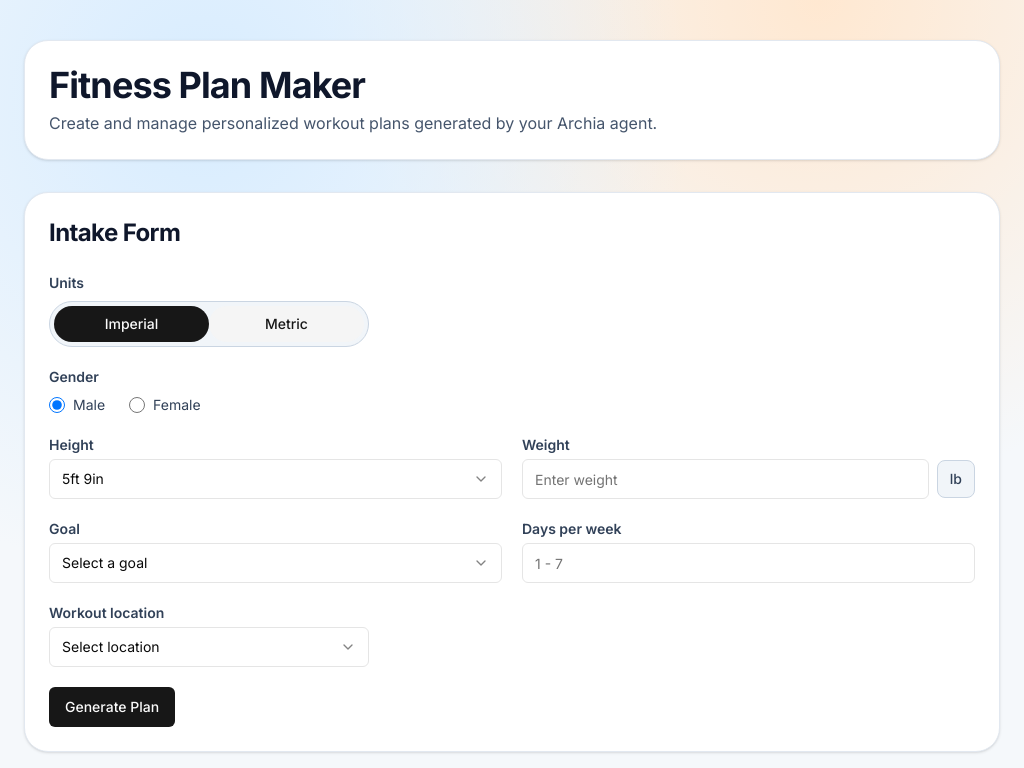
App › home selection reveals equipment fields
The image size is (1024, 768).
Expected: the field labelled "pull-up bar" is not shown
Click the dropdown named "workout location" at [111, 646], box [49,627,369,667]
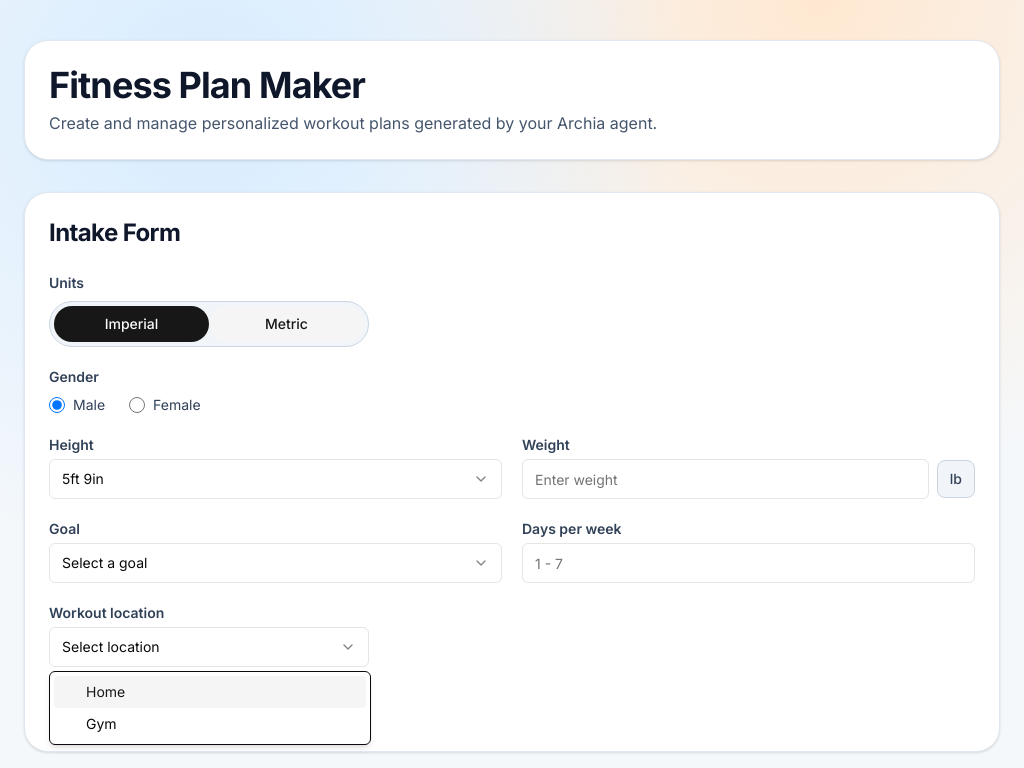
Click the option "Home" at [106, 692], box [54,676,366,708]
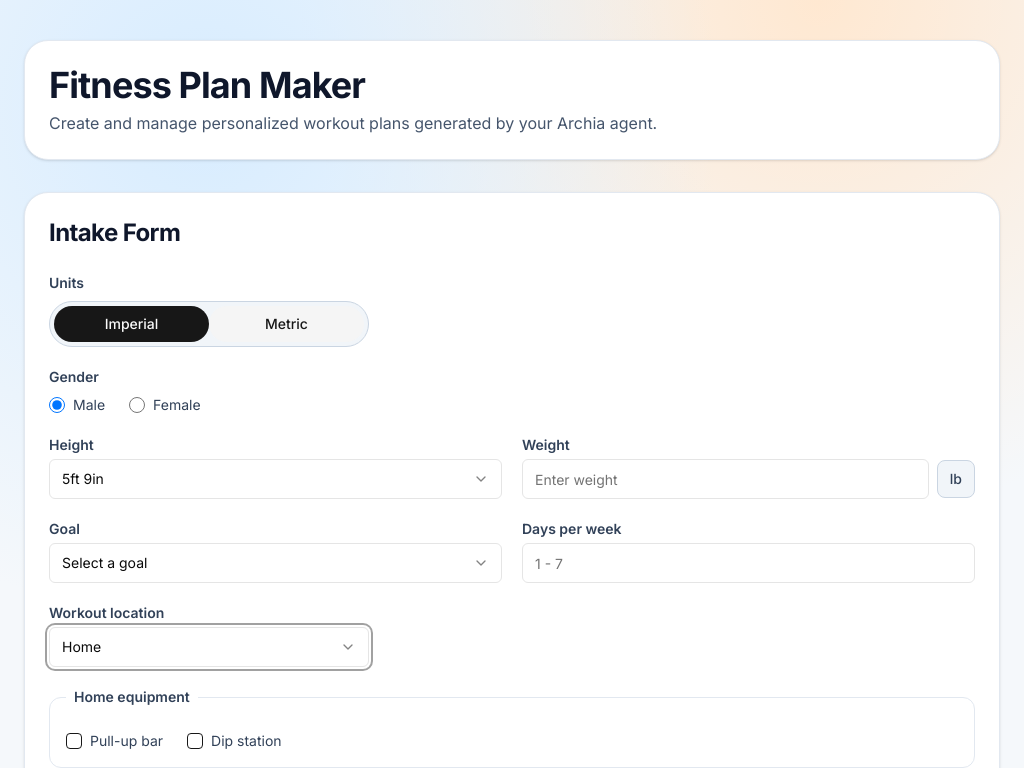
Expected: the checkbox named "pull-up bar" next to "Pull-up bar" is shown, [66,733,82,749]
Expected: the checkbox named "dip station" next to "Dip station" is shown, [187,733,203,749]
